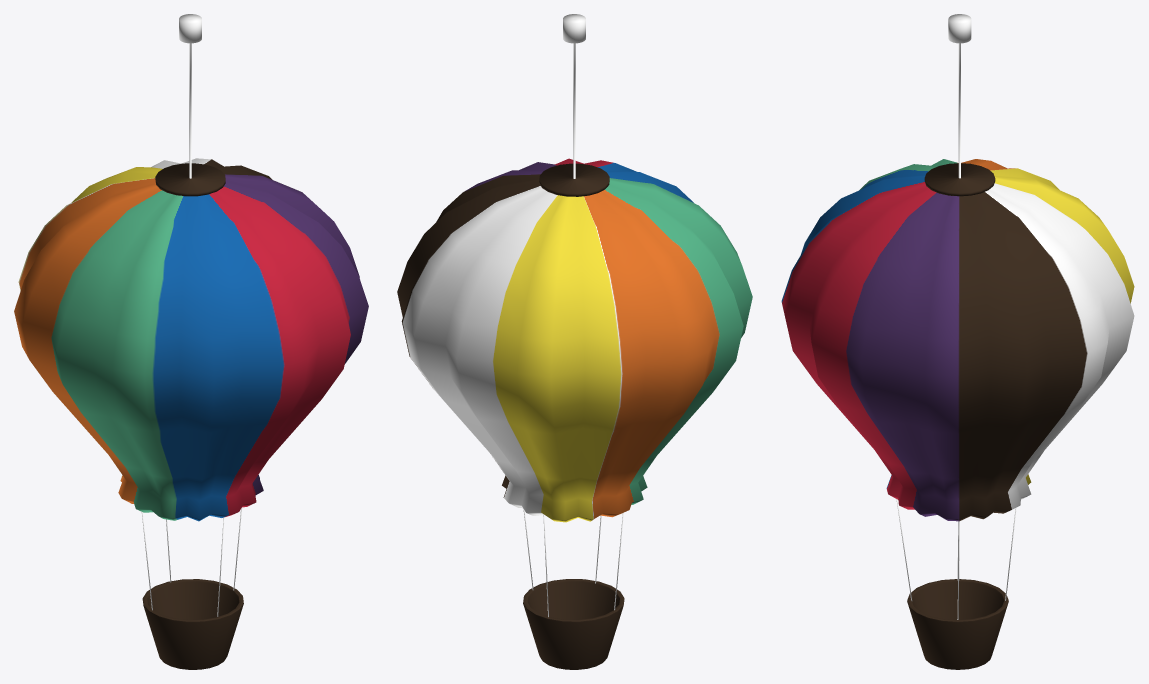
The model's file is Balloon.fbx.
3 renders of one model, left to right at view 1: azimuth 30°, elevation 25°; view 2: azimuth 150°, elevation 25°; view 3: azimuth 270°, elevation 25°, orthographic.
Visible parts, largest first — view 1: Balloon; view 2: Balloon; view 3: Balloon.
Boxes of the visible parts, left/top/right/bottom form: Balloon: left=14, top=14, right=368, bottom=669; Balloon: left=397, top=14, right=752, bottom=669; Balloon: left=781, top=14, right=1134, bottom=669.
Bounding box in the file's own units: 13.55 × 26.95 × 13.55.
Materials: 1 (1 with a texture image).
